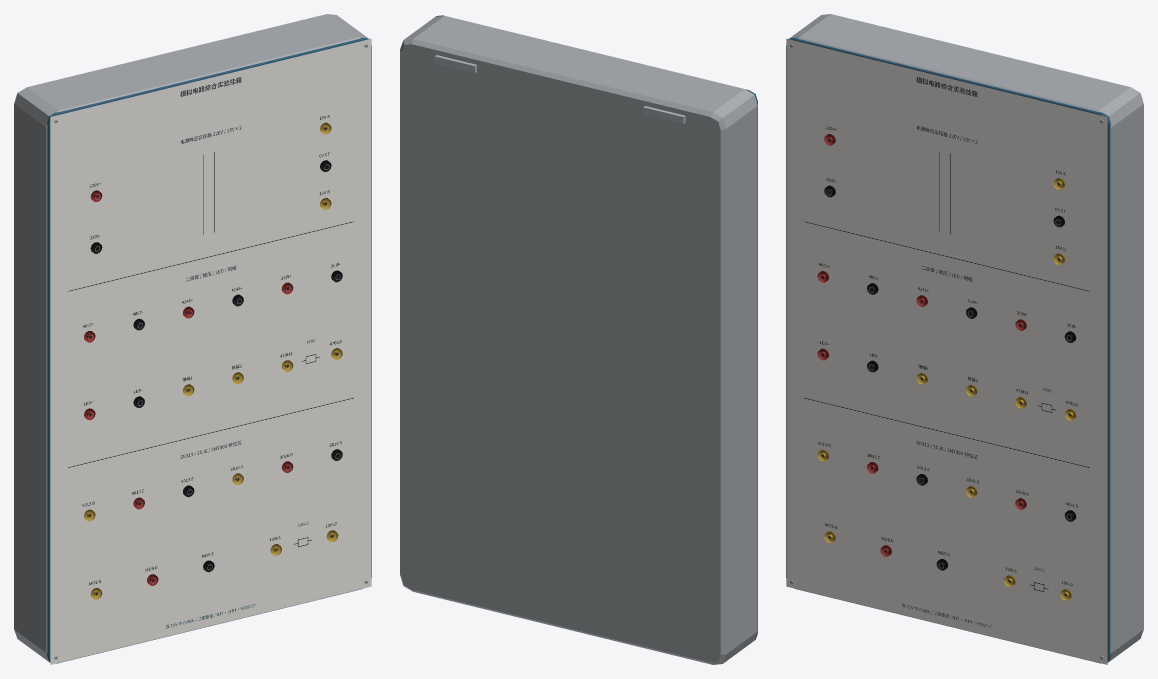
The model's file is module.glb.
3 renders of one model, left to right at view 1: azimuth 30°, elevation 25°; view 2: azimuth 150°, elevation 25°; view 3: azimuth 330°, elevation 25°, orthographic.
Visible parts, largest first — view 1: PANEL_silkscreen, STATIC_paint; view 2: STATIC_paint, STATIC_metal; view 3: PANEL_silkscreen, STATIC_paint.
Part boxes in pixels (box(x1,y1,x2,y2)): PANEL_silkscreen: box(50, 38, 371, 664); STATIC_paint: box(14, 14, 371, 663); STATIC_paint: box(400, 15, 757, 664); STATIC_metal: box(434, 55, 685, 123); PANEL_silkscreen: box(786, 38, 1107, 664); STATIC_paint: box(786, 14, 1143, 663).
Size of the model in its own units: 0.29 by 0.47 by 0.0621.
Materials: 3 (1 with a texture image).
